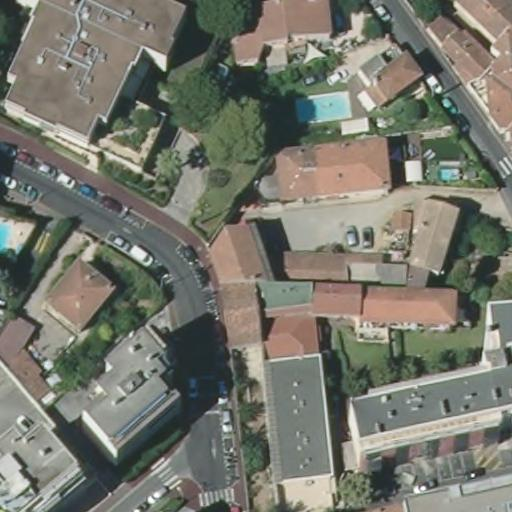pool: (294, 88, 353, 122), (0, 214, 18, 254)
